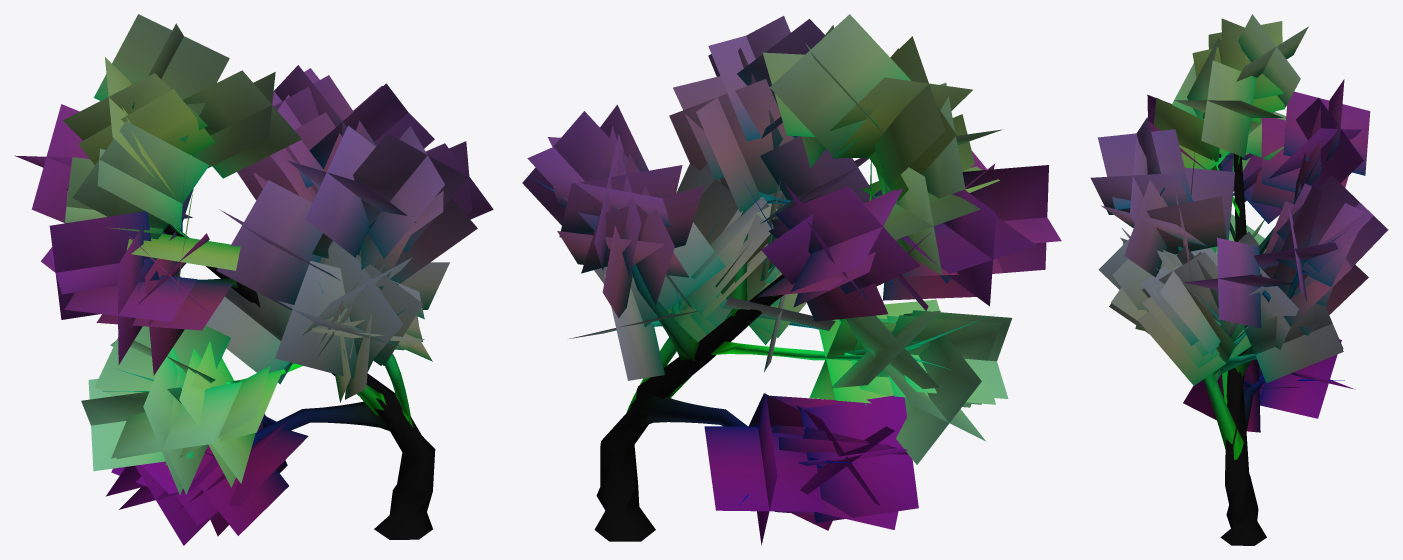
Rendered from URP_P5_Tree_13_LOD_3.fbx.
3 views of the same model, side by side, from view 1: azimuth 30°, elevation 25°; view 2: azimuth 150°, elevation 25°; view 3: azimuth 270°, elevation 25° (orthographic). The views are drawn at different scales.
Parts seen in each view (by area): view 1: Tree_13_LOD_3; view 2: Tree_13_LOD_3; view 3: Tree_13_LOD_3.
Boxes of the visible parts, <box> form: Tree_13_LOD_3: <box>14,14,493,545</box>; Tree_13_LOD_3: <box>522,14,1061,545</box>; Tree_13_LOD_3: <box>1090,14,1388,545</box>.
Size of the model in its own units: 413 by 482 by 297.
